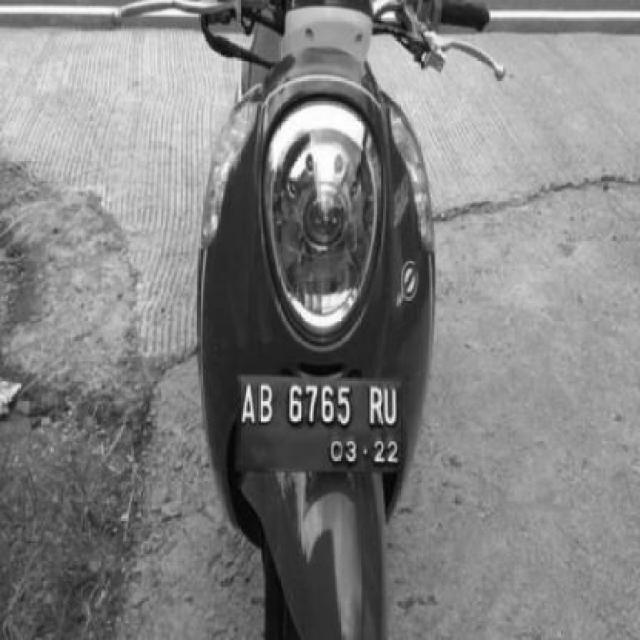5: (340, 383, 356, 419)
6: (324, 384, 340, 428), (288, 383, 302, 419)
7: (302, 381, 320, 419)
A: (242, 381, 258, 427)
B: (258, 382, 277, 424)
R: (364, 388, 384, 428)
U: (384, 386, 400, 431)
